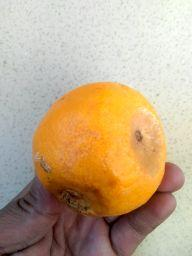Unripe: (30, 81, 168, 217)
